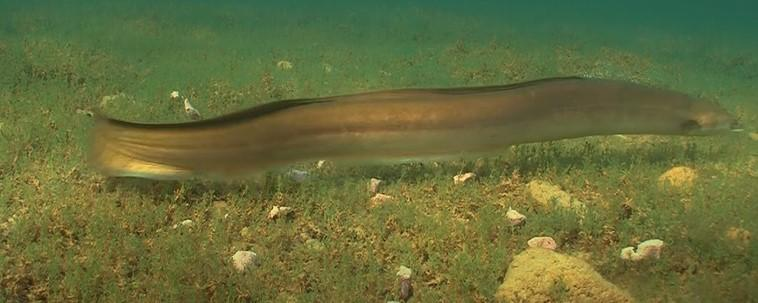Freshwater Eel: (77, 73, 743, 187)
